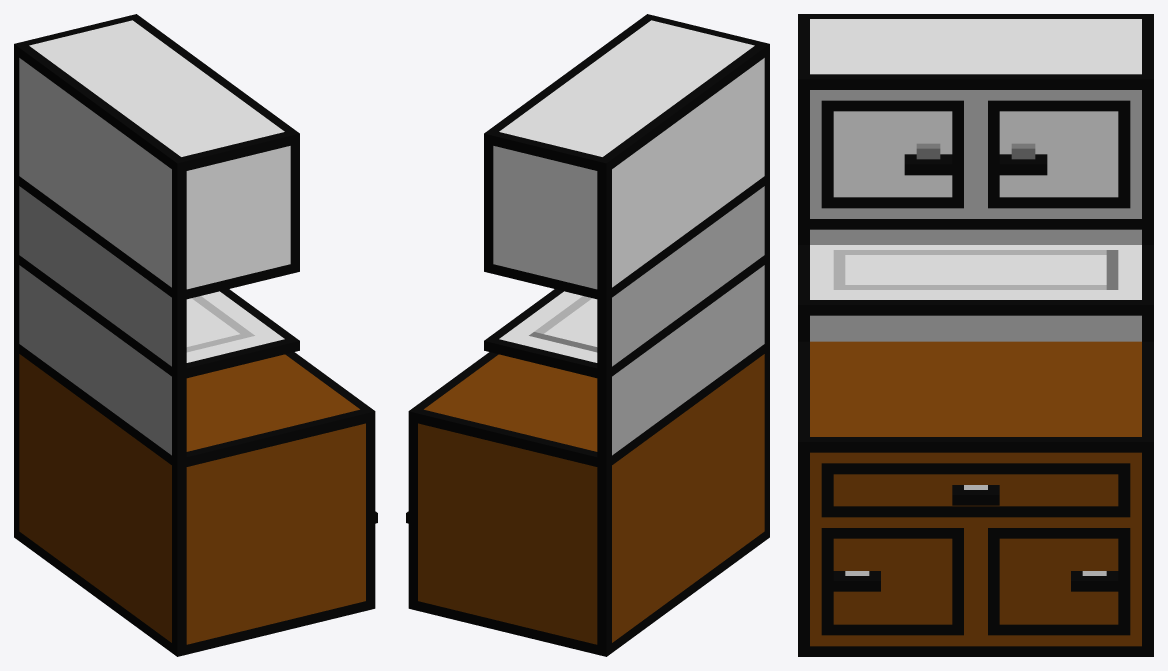
Rendered from KitchenCabinetOverhead.obj.
3 renders of one model, left to right at view 1: azimuth 30°, elevation 25°; view 2: azimuth 150°, elevation 25°; view 3: azimuth 270°, elevation 25°, orthographic. The views are drawn at different scales.
Parts seen in each view (by area): view 1: KitchenCabinetOverhead; view 2: KitchenCabinetOverhead; view 3: KitchenCabinetOverhead.
Boxes of the visible parts, left/top/right/bottom form: KitchenCabinetOverhead: left=14, top=14, right=377, bottom=656; KitchenCabinetOverhead: left=406, top=14, right=769, bottom=656; KitchenCabinetOverhead: left=798, top=14, right=1153, bottom=656.
Bounding box in the file's own units: 2.3 × 5 × 3.
1 material, 1 textured.
